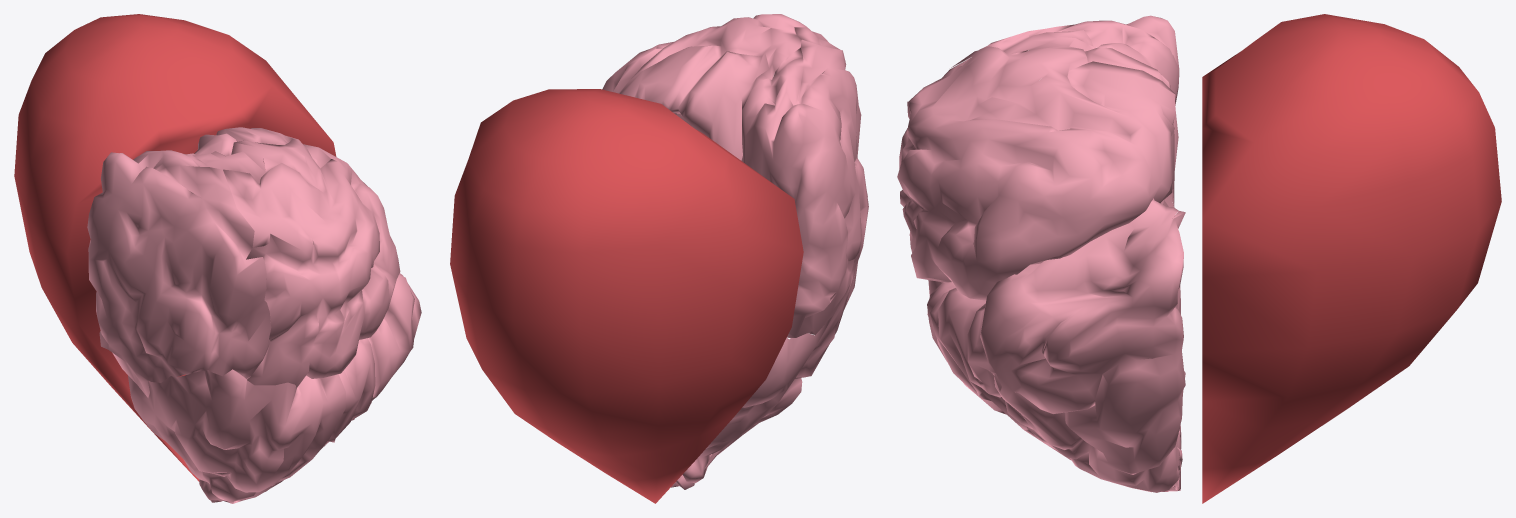
File: heartbrain.glb
3 views of the same model, side by side, from view 1: azimuth 30°, elevation 25°; view 2: azimuth 150°, elevation 25°; view 3: azimuth 270°, elevation 25° (orthographic). The views are drawn at different scales.
Visible parts, largest first — view 1: Sphere.001; view 2: Sphere.001; view 3: Sphere.001.
Part boxes in pixels (x1,y1,x2,y2): Sphere.001: (14, 14, 421, 503); Sphere.001: (450, 14, 868, 503); Sphere.001: (897, 14, 1501, 503).
Size of the model in its own units: 2.91 by 4.12 by 4.76.
